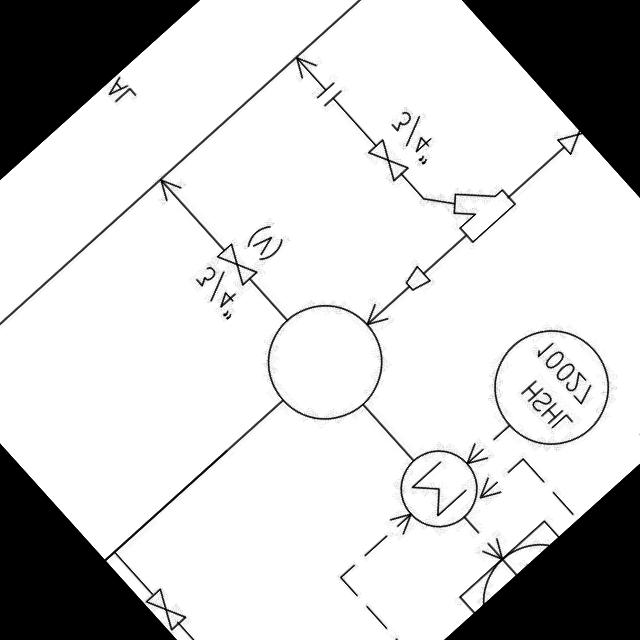GV: (212, 238, 263, 290), (362, 132, 411, 184), (141, 581, 190, 632)
M: (382, 429, 494, 542)
SP: (396, 258, 436, 299)
